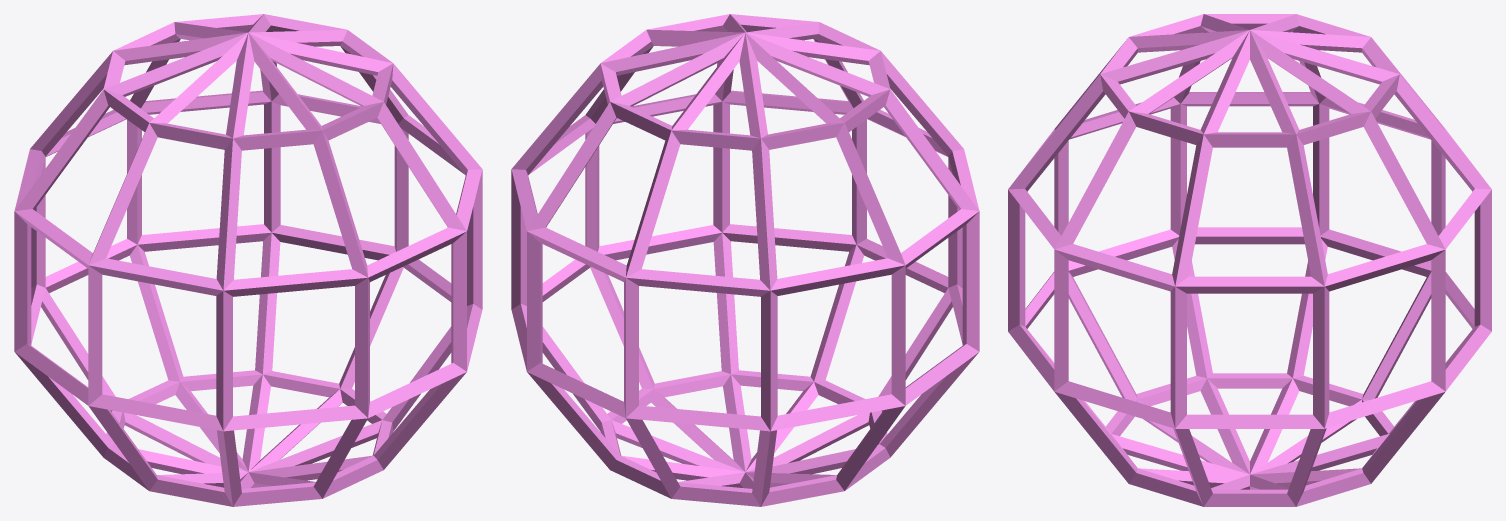
Rendered from crosshair.glb.
The picture shows the model from 3 angles, left to right: view 1: azimuth 30°, elevation 25°; view 2: azimuth 150°, elevation 25°; view 3: azimuth 270°, elevation 25°; orthographic projection.
Visible parts, largest first — view 1: Sphere; view 2: Sphere; view 3: Sphere.
Part boxes in pixels (box(x1,y1,x2,y2)): Sphere: box(14, 14, 482, 506); Sphere: box(511, 14, 979, 506); Sphere: box(1008, 14, 1491, 506).
Bounding box in the file's own units: 1.88 × 2.07 × 1.97.
